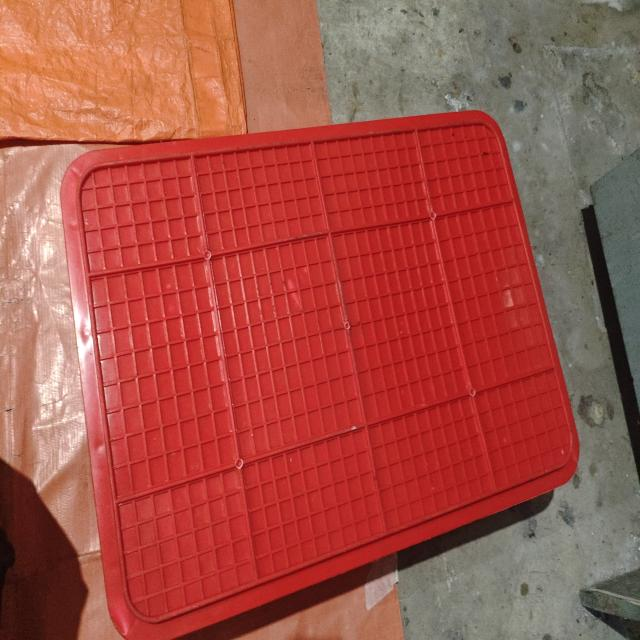red plastic box: (60, 110, 581, 640)
